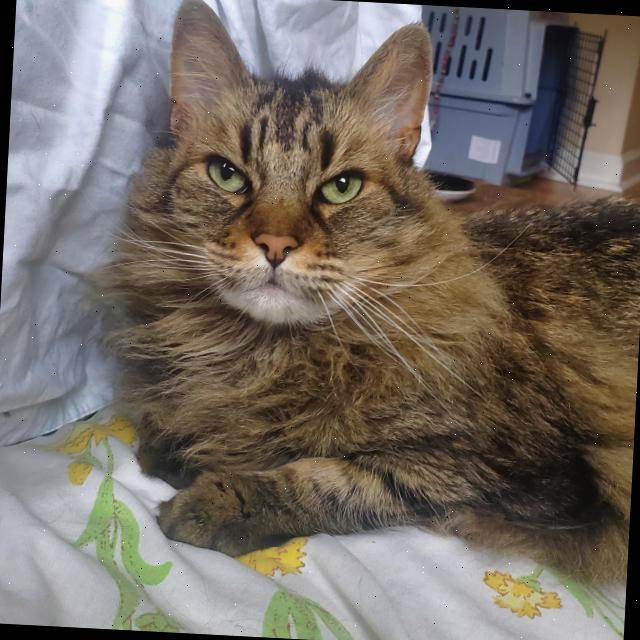maine_coon_cat: (92, 0, 501, 355)
